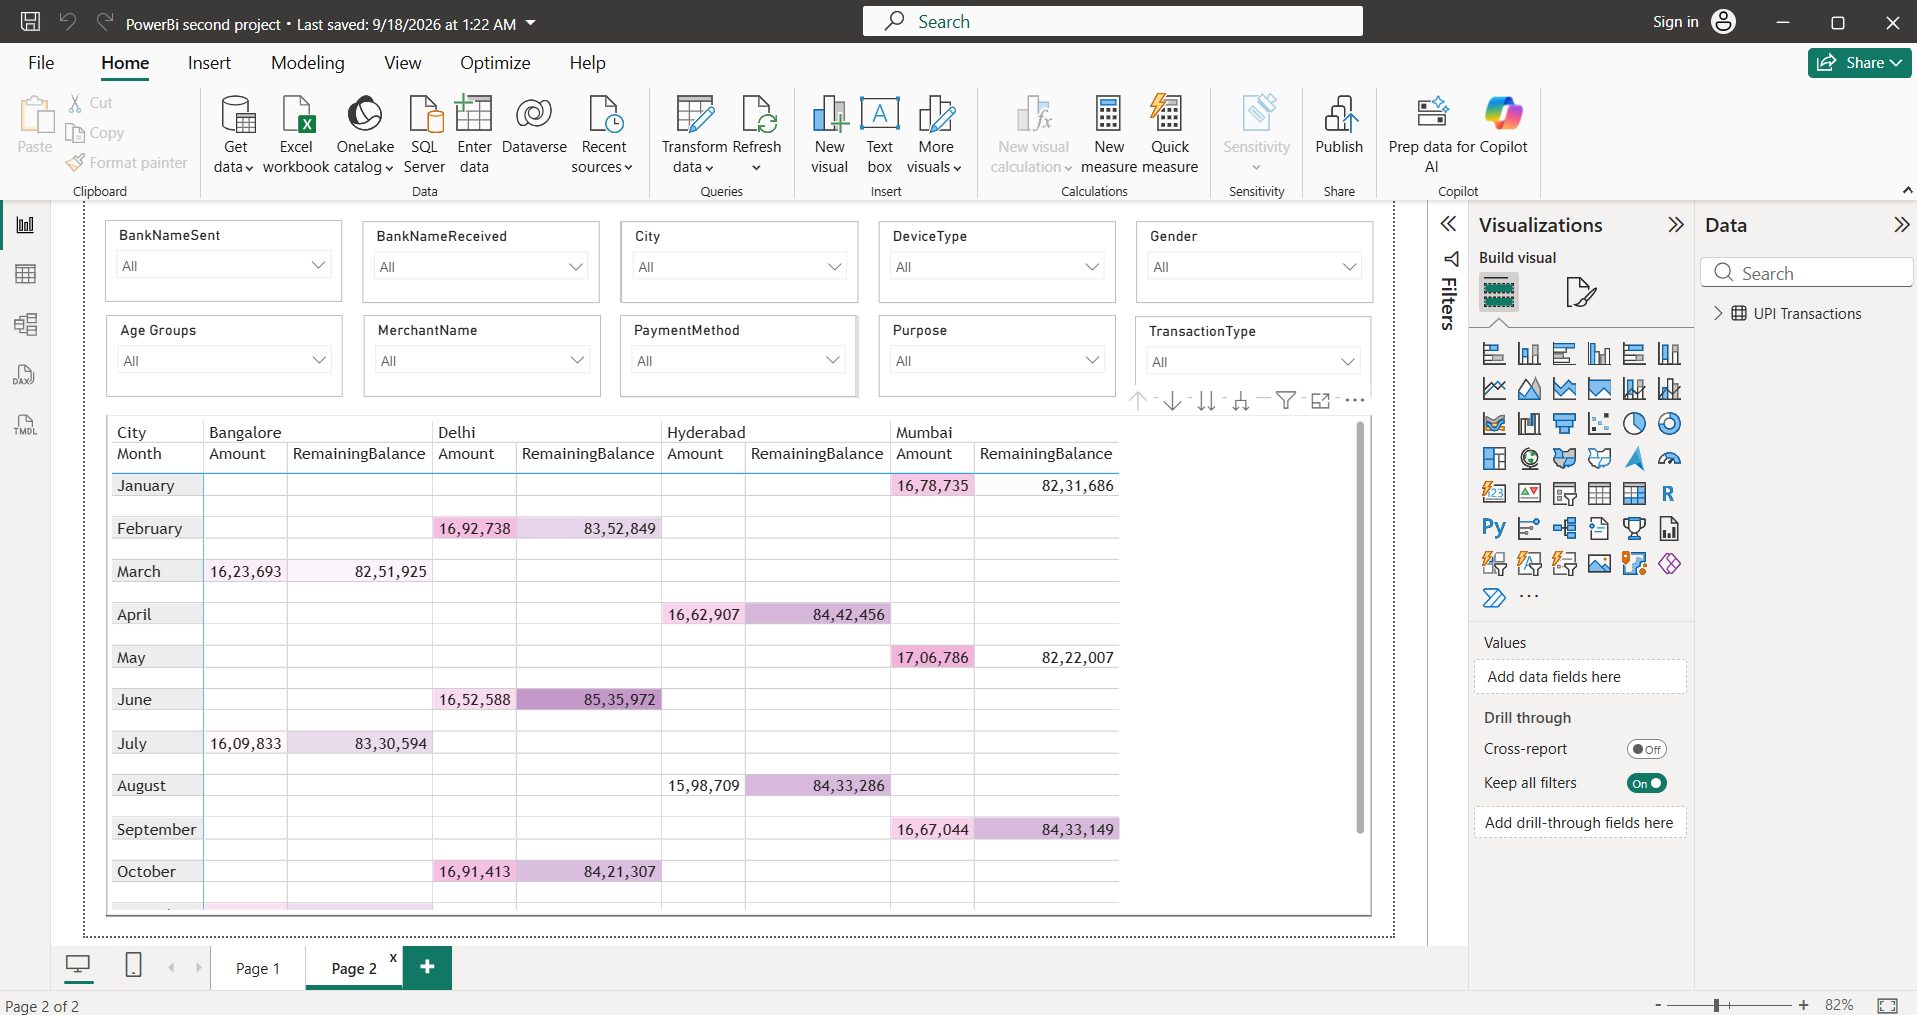

The page's visual inventory and layout, read from the dashboard file:
{"tool":"powerbi","page":{"name":"Page 2","canvas":[1280,720],"ordinal":1},"visuals":[{"type":"slicer","fields":{"Values":["UPI Transactions.BankNameSent"]},"box":[20,20,232,80],"z":0},{"type":"slicer","fields":{"Values":["UPI Transactions.BankNameReceived"]},"box":[272,20.6,231.9,80],"z":1000},{"type":"slicer","fields":{"Values":["UPI Transactions.BankNameSent"]},"box":[522.8,20.6,231.9,79.6],"z":2000},{"type":"slicer","fields":{"Values":["UPI Transactions.City"]},"box":[524,20.6,231.9,80],"z":3000},{"type":"slicer","fields":{"Values":["UPI Transactions.DeviceType"]},"box":[776,20.6,231.9,80],"z":4000},{"type":"slicer","fields":{"Values":["UPI Transactions.Gender"]},"box":[1028,20.6,231.9,80],"z":5000},{"type":"slicer","fields":{"Values":["UPI Transactions.Age Groups"]},"box":[20.8,113.1,231.5,80],"z":6000},{"type":"slicer","fields":{"Values":["UPI Transactions.MerchantName"]},"box":[272.3,113.1,232.3,80],"z":7000},{"type":"slicer","fields":{"Values":["UPI Transactions.BankNameSent"]},"box":[524,114,231.9,79.6],"z":8000},{"type":"slicer","fields":{"Values":["UPI Transactions.PaymentMethod"]},"box":[523.8,113.1,231.5,80],"z":9000},{"type":"slicer","fields":{"Values":["UPI Transactions.Purpose"]},"box":[776.2,113.1,232.3,80],"z":10000},{"type":"slicer","fields":{"Values":["UPI Transactions.TransactionType"]},"box":[1027.7,113.8,231.5,80],"z":11000},{"type":"pivotTable","fields":{"Values":["Sum(UPI Transactions.Amount)","Sum(UPI Transactions.RemainingBalance)"],"Rows":["UPI Transactions.TransactionDate.Variation.Date Hierarchy.Month"],"Columns":["UPI Transactions.City","UPI Transactions.Currency"]},"box":[21.2,210,1237.5,490],"z":12000}]}

Visuals, with their boxes on the page's 1280x720 design canvas (x1, y1, x2, y2). These are canvas units, not pixel positions in the 1917x1015 screenshot, which may show the page scaled, cropped or inside an application window:
slicer - UPI Transactions.BankNameSent: 20 20 252 100
slicer - UPI Transactions.BankNameReceived: 272 21 504 101
slicer - UPI Transactions.BankNameSent: 523 21 755 100
slicer - UPI Transactions.City: 524 21 756 101
slicer - UPI Transactions.DeviceType: 776 21 1008 101
slicer - UPI Transactions.Gender: 1028 21 1260 101
slicer - UPI Transactions.Age Groups: 21 113 252 193
slicer - UPI Transactions.MerchantName: 272 113 505 193
slicer - UPI Transactions.BankNameSent: 524 114 756 194
slicer - UPI Transactions.PaymentMethod: 524 113 755 193
slicer - UPI Transactions.Purpose: 776 113 1008 193
slicer - UPI Transactions.TransactionType: 1028 114 1259 194
pivotTable - Sum(UPI Transactions.Amount) x Sum(UPI Transactions.RemainingBalance): 21 210 1259 700
